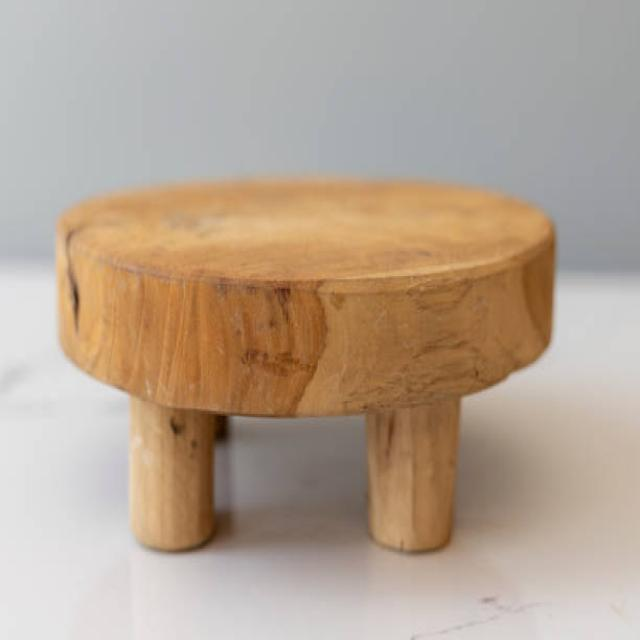table: (55, 174, 558, 555)
